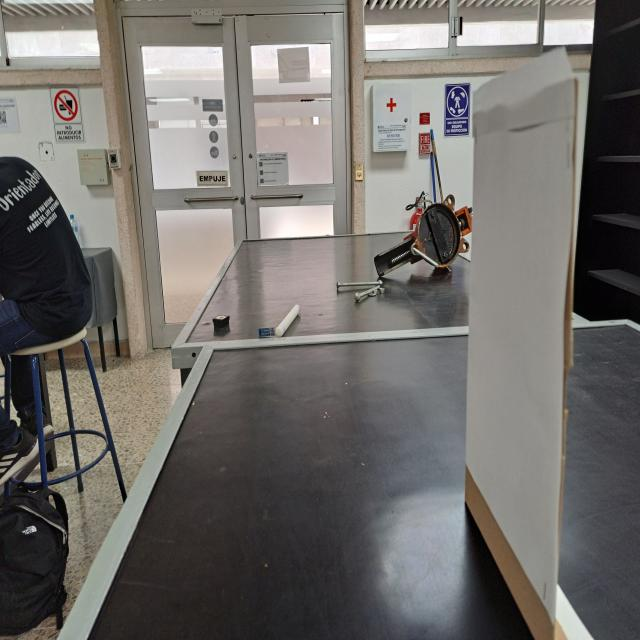wall: (464, 80, 580, 630)
